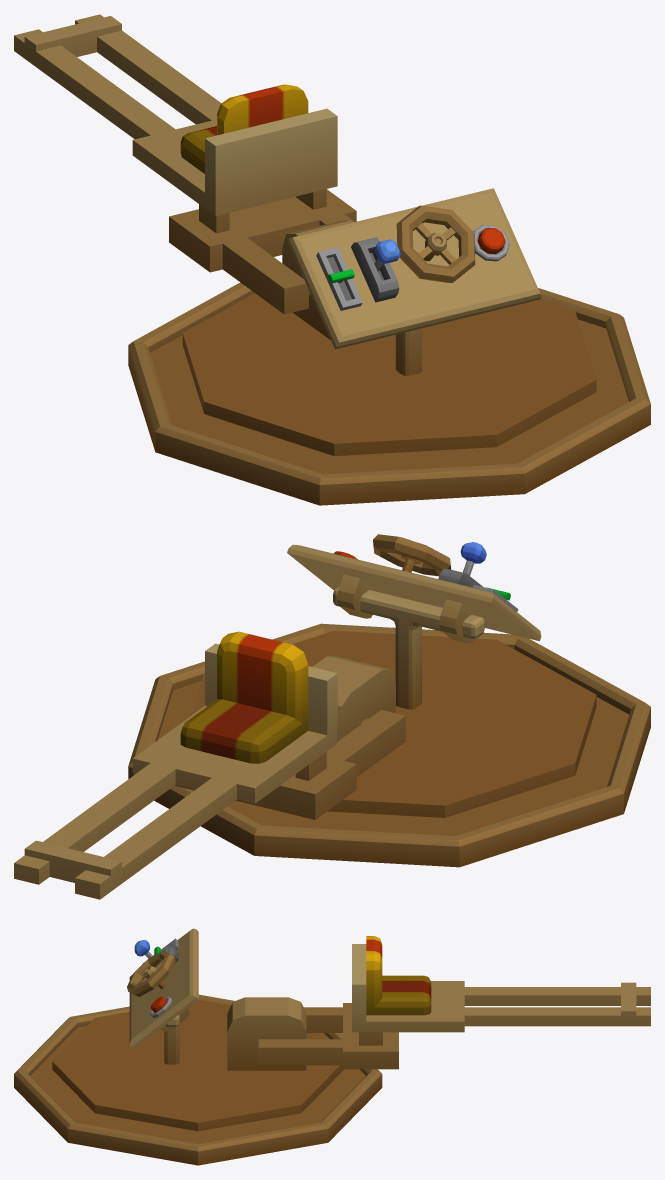
File: Catapulta.fbx
3 views of the same model, one above another, from view 1: azimuth 30°, elevation 25°; view 2: azimuth 150°, elevation 25°; view 3: azimuth 270°, elevation 25° (orthographic). The views are drawn at different scales.
Visible parts, largest first — view 1: BaseGiratoria, BaseEstatica, Lanzador, Tablero, Carbilla, Silla, BasePalanca, BaseSlider, Referencia, Columna; view 2: BaseEstatica, BaseGiratoria, Lanzador, Silla, Tablero, Columna, Referencia, Carbilla, Palanca; view 3: BaseGiratoria, Lanzador, BaseEstatica, Referencia, Tablero, Silla, Carbilla, Columna.
Part boxes in pixels (bbox=[...]): BaseGiratoria: bbox=[182, 293, 596, 456]; BaseEstatica: bbox=[128, 282, 650, 505]; Lanzador: bbox=[14, 14, 356, 314]; Tablero: bbox=[287, 188, 541, 349]; Carbilla: bbox=[396, 205, 475, 282]; Silla: bbox=[180, 84, 308, 173]; BasePalanca: bbox=[351, 237, 399, 302]; BaseSlider: bbox=[316, 247, 362, 310]; Referencia: bbox=[282, 220, 353, 340]; Columna: bbox=[395, 328, 421, 375]; BaseEstatica: bbox=[128, 623, 650, 867]; BaseGiratoria: bbox=[191, 630, 596, 817]; Lanzador: bbox=[14, 643, 405, 899]; Silla: bbox=[180, 631, 308, 763]; Tablero: bbox=[287, 544, 541, 643]; Columna: bbox=[333, 586, 484, 709]; Referencia: bbox=[312, 656, 395, 741]; Carbilla: bbox=[373, 534, 451, 576]; Palanca: bbox=[460, 542, 486, 575]; BaseGiratoria: bbox=[52, 1000, 343, 1131]; Lanzador: bbox=[258, 944, 650, 1069]; BaseEstatica: bbox=[14, 994, 382, 1165]; Referencia: bbox=[227, 997, 306, 1070]; Tablero: bbox=[129, 928, 198, 1049]; Silla: bbox=[366, 936, 431, 1015]; Carbilla: bbox=[127, 950, 175, 996]; Columna: bbox=[164, 1015, 179, 1064].
Bounding box in the file's own units: 458 × 195 × 792.
Materials: 1 (1 with a texture image).
